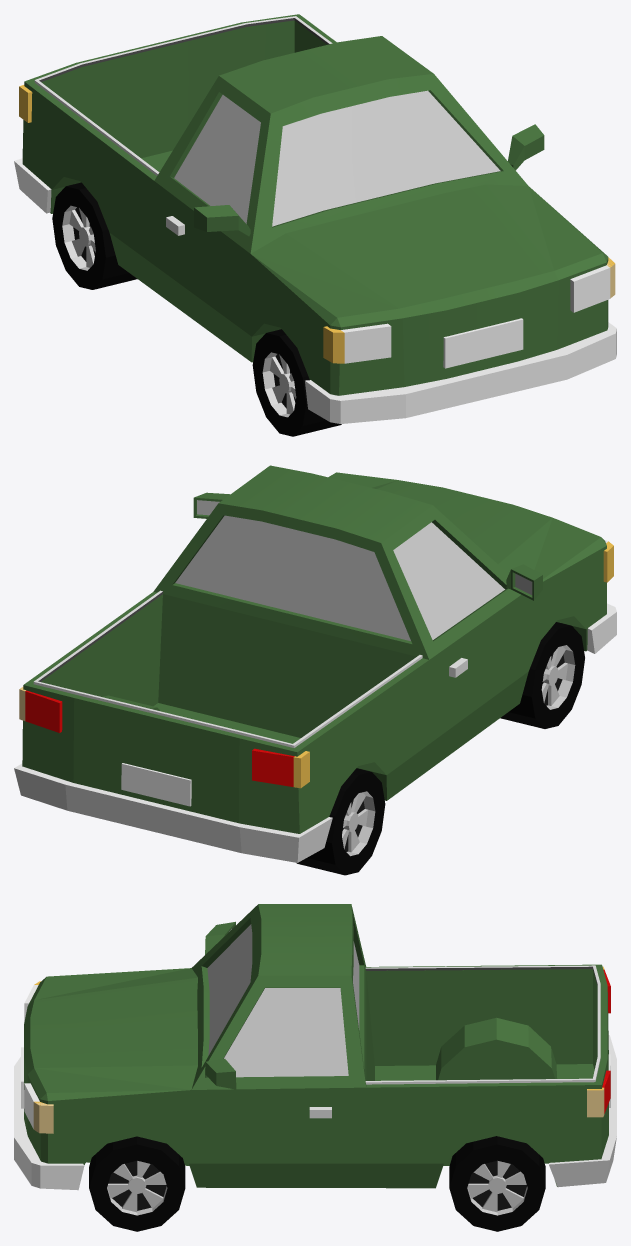
The model's file is Car-04-C.fbx.
3 views of the same model, one above another, from view 1: azimuth 30°, elevation 25°; view 2: azimuth 150°, elevation 25°; view 3: azimuth 270°, elevation 25° (orthographic). The views are drawn at different scales.
Parts seen in each view (by area): view 1: Car-04, BR, FR, Headlight, Light-Right; view 2: Car-04, FR, BR, Break-Light, Light-Right; view 3: Car-04, BL, FL, Light-Left, Headlight.
Boxes of the visible parts, x1=… form: Car-04: x1=14, y1=14, x2=616, y2=423; BR: x1=52, y1=182, x2=137, y2=289; FR: x1=252, y1=329, x2=341, y2=436; Headlight: x1=341, y1=265, x2=610, y2=363; Light-Right: x1=19, y1=85, x2=344, y2=363; Car-04: x1=14, y1=465, x2=616, y2=862; FR: x1=500, y1=622, x2=584, y2=728; BR: x1=296, y1=768, x2=385, y2=875; Break-Light: x1=25, y1=691, x2=293, y2=786; Light-Right: x1=293, y1=541, x2=613, y2=788; Car-04: x1=14, y1=904, x2=616, y2=1190; BL: x1=449, y1=1136, x2=545, y2=1231; FL: x1=89, y1=1136, x2=185, y2=1231; Light-Left: x1=33, y1=1088, x2=604, y2=1133; Headlight: x1=24, y1=985, x2=39, y2=1128.
Bounding box in the file's own units: 2.45 × 1.79 × 4.18.
